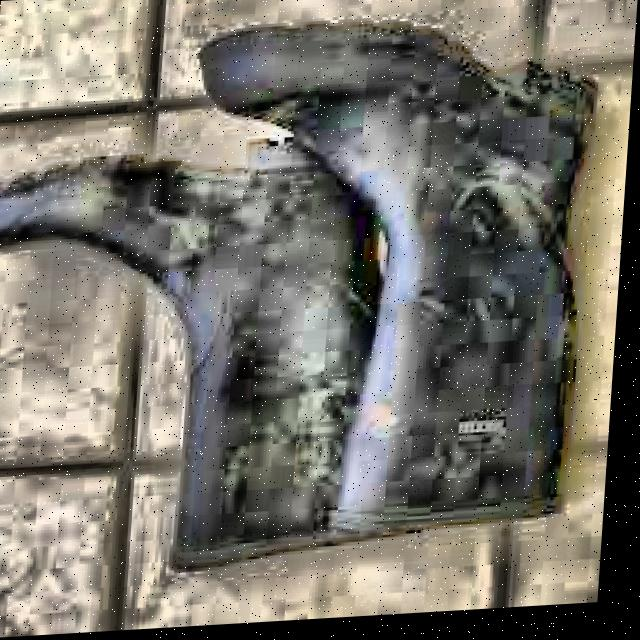shoes: (0, 0, 639, 584)
